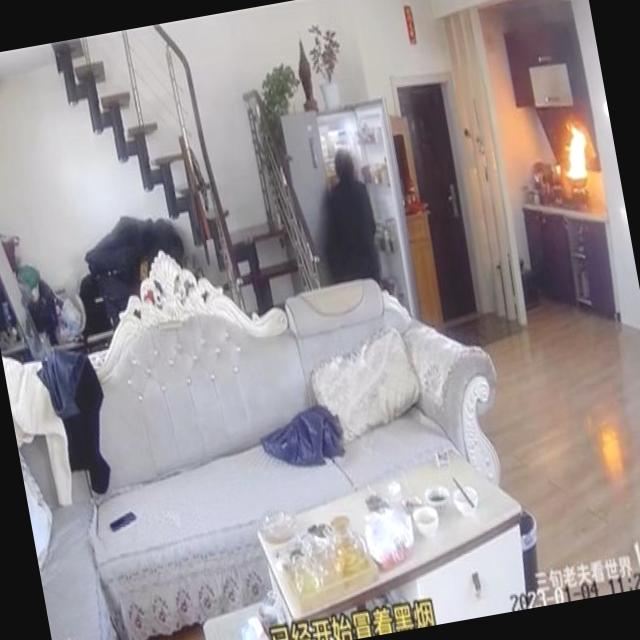fire: (544, 105, 612, 207)
